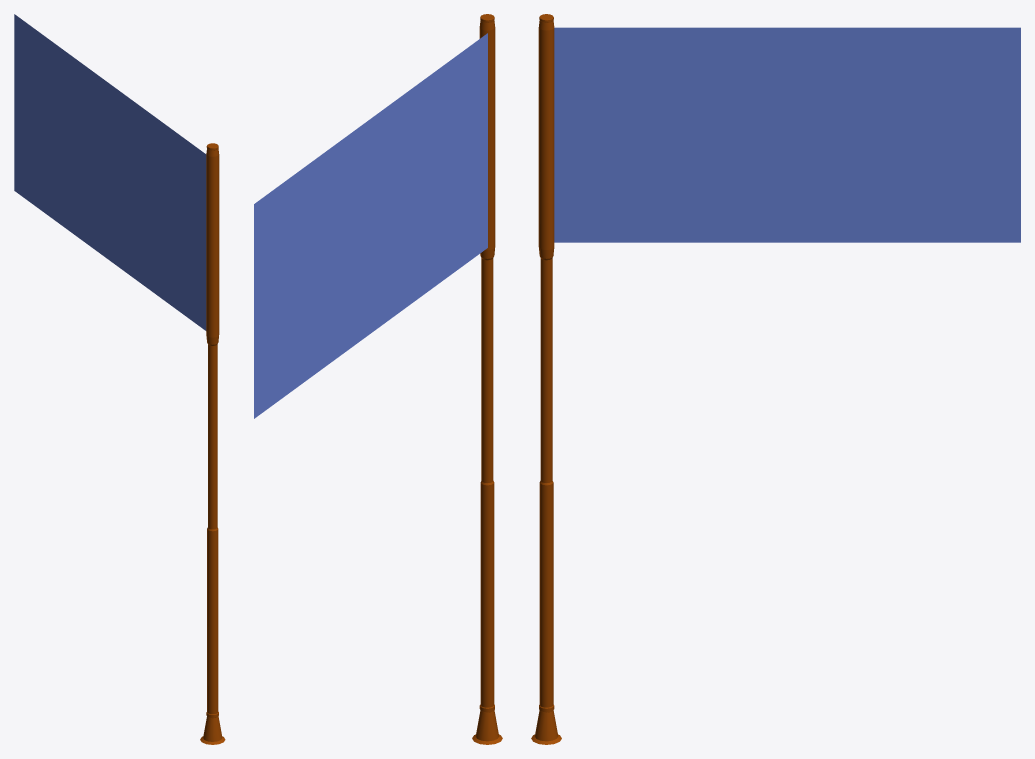
Rendered from Flag2.fbx.
The picture shows the model from 3 angles, left to right: view 1: azimuth 30°, elevation 25°; view 2: azimuth 150°, elevation 25°; view 3: azimuth 270°, elevation 25°; orthographic projection. The views are drawn at different scales.
Parts seen in each view (by area): view 1: Flag_Flag, Flag_Pole; view 2: Flag_Flag, Flag_Pole; view 3: Flag_Flag, Flag_Pole.
Part boxes in pixels (left/top/right/bottom): Flag_Flag: left=14, top=14, right=206, bottom=330; Flag_Pole: left=200, top=143, right=225, bottom=744; Flag_Flag: left=254, top=33, right=487, bottom=418; Flag_Pole: left=472, top=14, right=502, bottom=744; Flag_Flag: left=554, top=27, right=1020, bottom=242; Flag_Pole: left=531, top=14, right=561, bottom=744.
Bounding box in the file's own units: 11.58 × 298 × 183.
